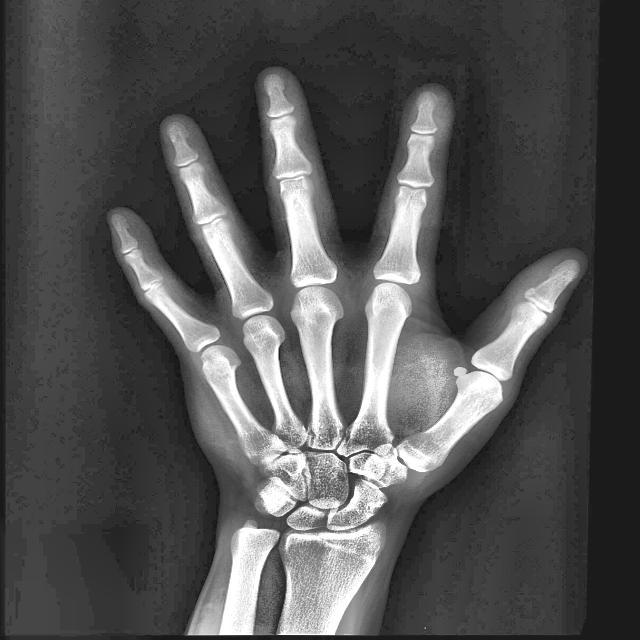fracture: (308, 430, 318, 448), (342, 430, 354, 442)
